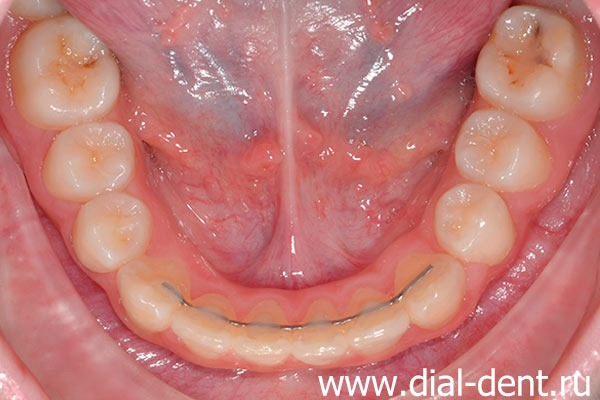LL1BC_healthy: (435, 184, 514, 261)
LL1M_decay: (479, 6, 585, 114)
LL2BC_healthy: (455, 111, 550, 186)
LLCI_decay: (294, 300, 345, 364)
LLC_decay: (397, 255, 462, 320)
LLLI_decay: (346, 290, 409, 351)
LR1BC_healthy: (78, 195, 149, 268)
LR1M_decay: (15, 20, 119, 125)
LR2BC_healthy: (46, 122, 133, 196)
LRCI_decay: (240, 302, 292, 364)
LRC_decay: (119, 260, 189, 331)
LRLI_decay: (180, 296, 238, 356)
